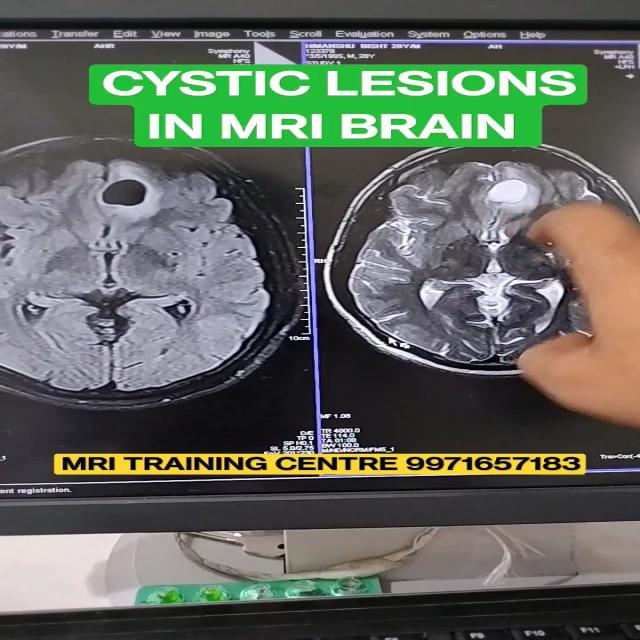tumor: (463, 166, 561, 231), (102, 172, 178, 225)
